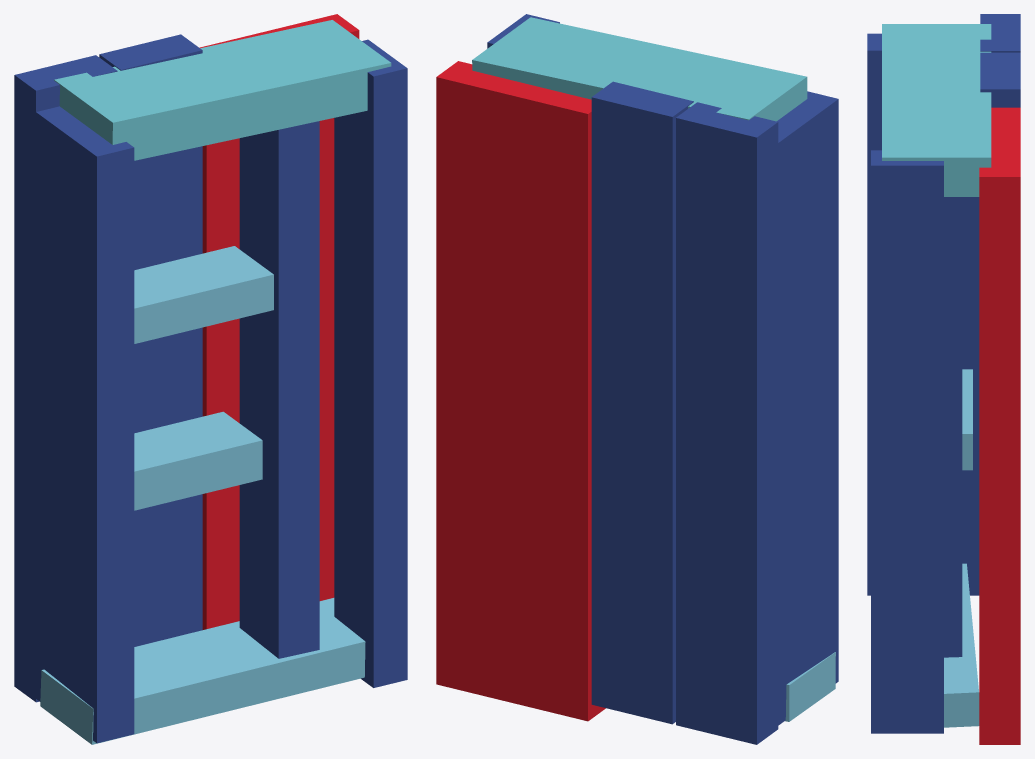
Rendered from tinker.obj.
3 views of the same model, side by side, from view 1: azimuth 30°, elevation 25°; view 2: azimuth 150°, elevation 25°; view 3: azimuth 270°, elevation 25° (orthographic). The views are drawn at different scales.
Visible parts, largest first — view 1: group_0_3888547, group_0_8768998, group_0_7720667, group_0_15277357; view 2: group_0_3888547, group_0_15277357, group_0_7720667, group_0_8768998; view 3: group_0_3888547, group_0_15277357, group_0_7720667, group_0_8768998.
Boxes of the visible parts, x1,y1,x2,y2 form: group_0_3888547: (14, 34, 407, 743); group_0_8768998: (40, 246, 365, 744); group_0_7720667: (54, 20, 391, 160); group_0_15277357: (199, 14, 359, 629); group_0_3888547: (487, 14, 838, 744); group_0_15277357: (436, 61, 605, 721); group_0_7720667: (472, 17, 807, 121); group_0_8768998: (785, 652, 835, 721); group_0_3888547: (867, 14, 1020, 733); group_0_15277357: (979, 107, 1020, 744); group_0_7720667: (882, 24, 991, 196); group_0_8768998: (944, 369, 979, 727).
Size of the model in its own units: 96 by 177 by 42.
